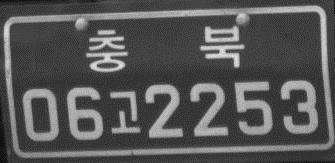0: (21, 86, 60, 141)
2: (188, 80, 233, 140), (143, 82, 184, 140)
3: (278, 76, 320, 135)
5: (231, 79, 274, 136)
6: (65, 83, 104, 143)
고: (107, 89, 142, 135)
충북_D: (85, 24, 245, 73)
